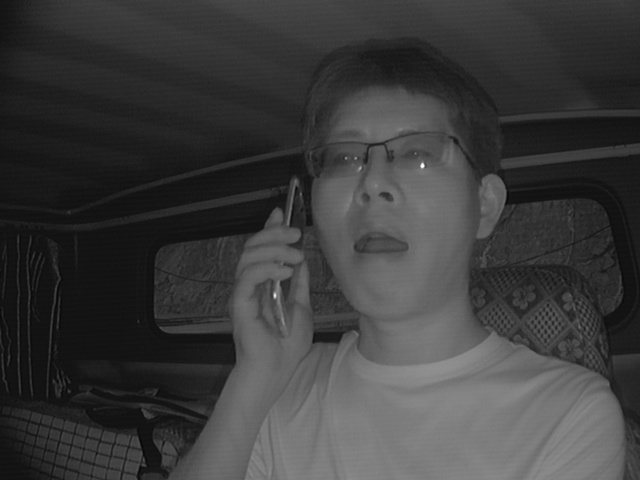hand: (228, 214, 318, 368)
